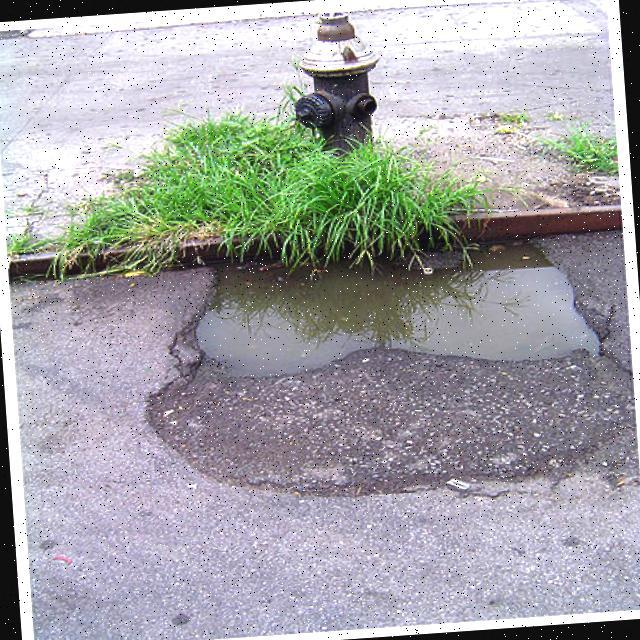fire_hydrant: (288, 9, 382, 158)
